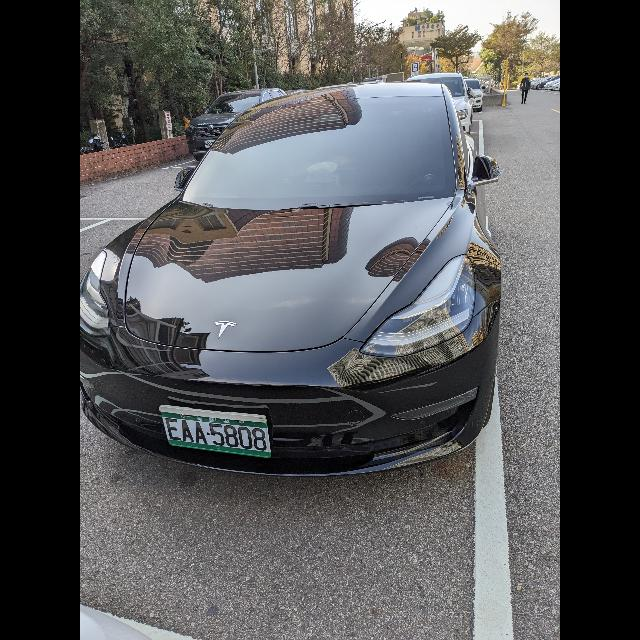plate: (159, 405, 271, 458)
